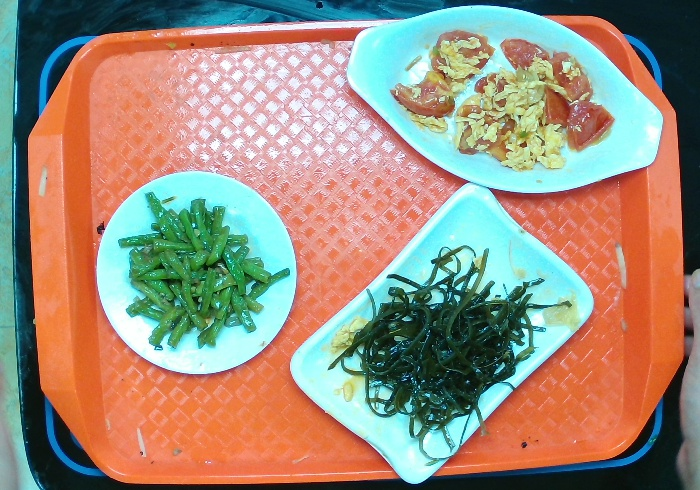RJxy-Si_Fang_Ao_Bian_Wan: (288, 182, 595, 489)
RJxy-Xiao_Yuan_Die: (90, 171, 296, 378)
RJxy-Yu_Pan: (350, 1, 668, 195)
